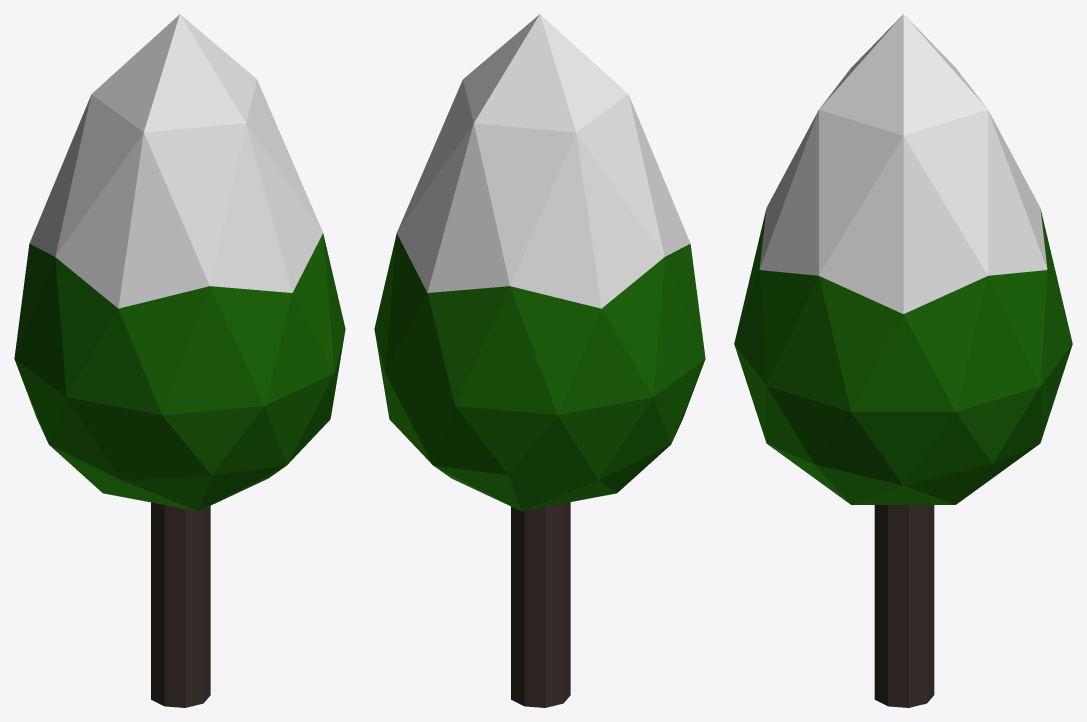
Rendered from Simple_Tree_5_Winter.fbx.
3 views of the same model, side by side, from view 1: azimuth 30°, elevation 25°; view 2: azimuth 150°, elevation 25°; view 3: azimuth 270°, elevation 25° (orthographic).
Visible parts, largest first — view 1: Simple_Tree_5_Winter; view 2: Simple_Tree_5_Winter; view 3: Simple_Tree_5_Winter.
Boxes of the visible parts, left/top/right/bottom form: Simple_Tree_5_Winter: left=14, top=14, right=345, bottom=707; Simple_Tree_5_Winter: left=374, top=14, right=705, bottom=707; Simple_Tree_5_Winter: left=734, top=14, right=1072, bottom=707.
Bounding box in the file's own units: 307 × 716 × 323.
